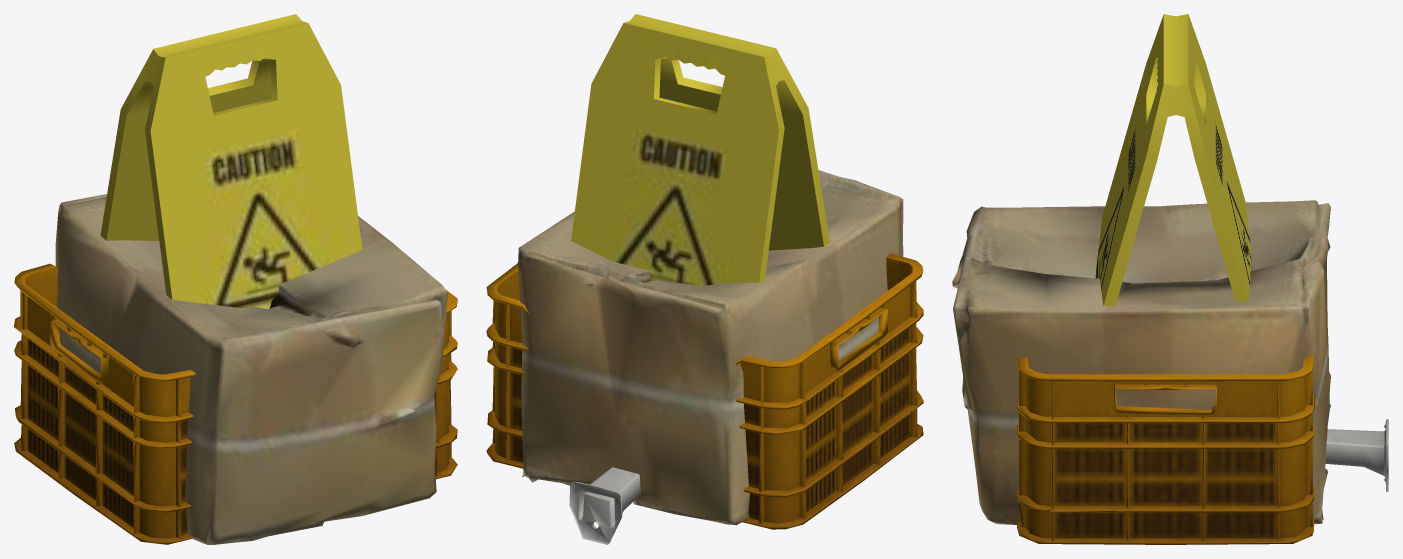
Rendered from corridor.glb.
3 renders of one model, left to right at view 1: azimuth 30°, elevation 25°; view 2: azimuth 150°, elevation 25°; view 3: azimuth 270°, elevation 25°, orthographic.
Visible parts, largest first — view 1: cardboard, WetFloorSign_01, plastic_crate_02; view 2: cardboard, WetFloorSign_01, plastic_crate_02, security_camera_01; view 3: cardboard, plastic_crate_02, WetFloorSign_01, security_camera_01.
Part boxes in pixels (x1,y1,x2,y2): cardboard: [55, 194, 447, 544]; WetFloorSign_01: [100, 14, 362, 308]; plastic_crate_02: [14, 263, 457, 544]; cardboard: [518, 170, 903, 525]; WetFloorSign_01: [571, 14, 829, 285]; plastic_crate_02: [486, 253, 923, 529]; security_camera_01: [569, 467, 640, 544]; cardboard: [952, 200, 1330, 524]; plastic_crate_02: [1017, 354, 1314, 544]; WetFloorSign_01: [1095, 14, 1251, 306]; security_camera_01: [1325, 419, 1388, 491].
Size of the model in its own units: 0.5055 by 0.6566 by 0.5943.
Materials: 5 (5 with a texture image).
